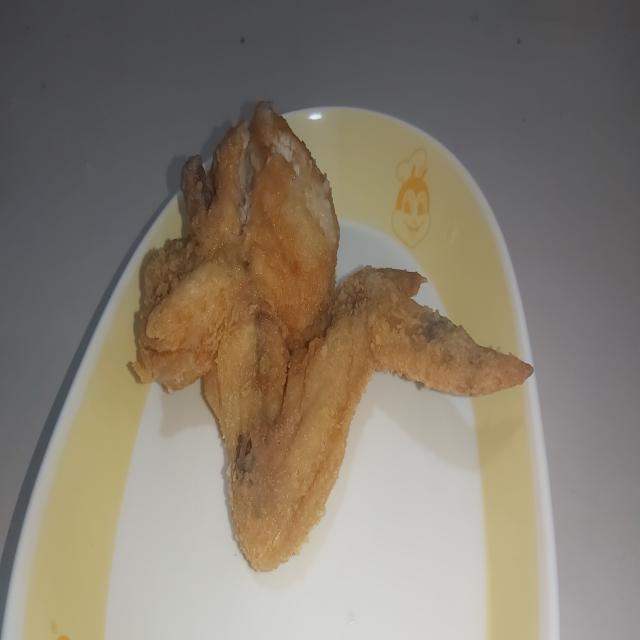Chicken -Fried Chicken-: (127, 97, 538, 578)
